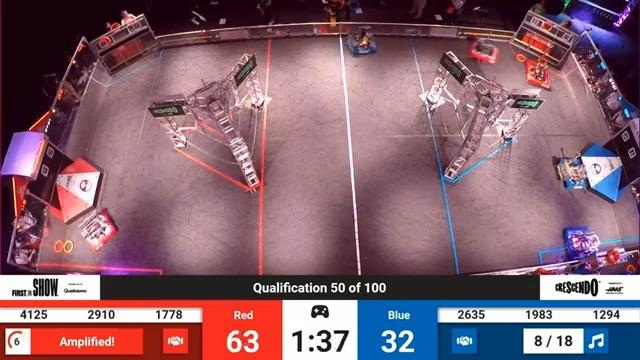robot: (73, 207, 124, 253), (523, 43, 557, 93), (554, 153, 591, 194), (557, 223, 598, 260), (339, 23, 382, 57), (467, 29, 503, 68)
